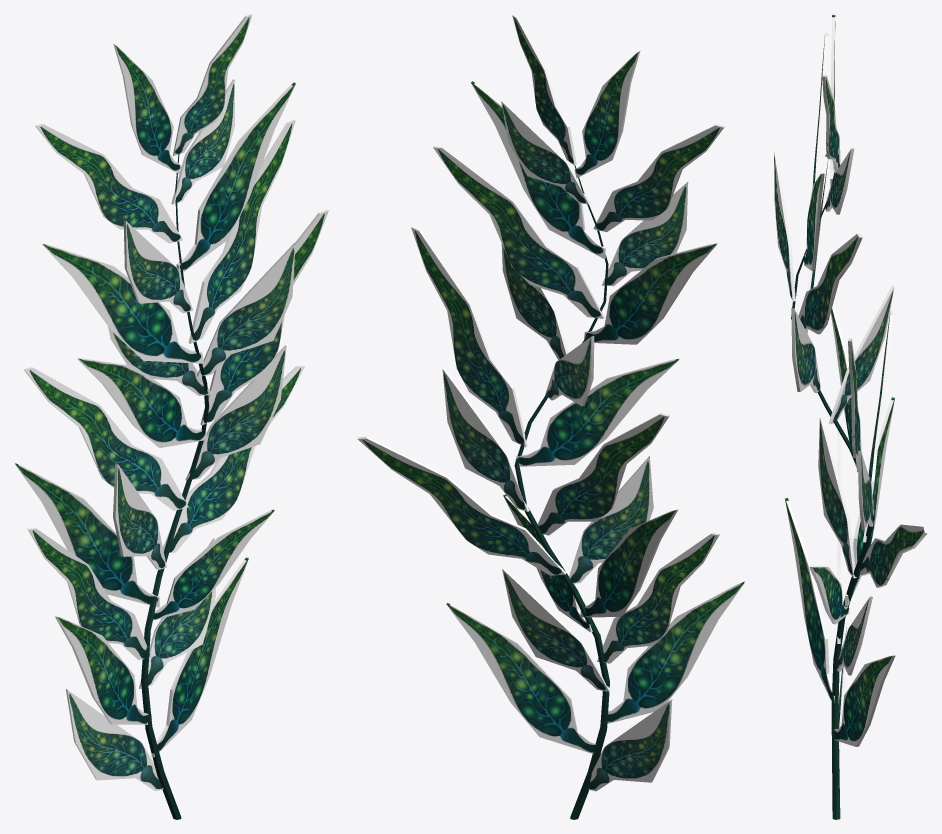
Rendered from seaweed1.obj.
3 renders of one model, left to right at view 1: azimuth 30°, elevation 25°; view 2: azimuth 150°, elevation 25°; view 3: azimuth 270°, elevation 25°, orthographic. The views are drawn at different scales.
Visible parts, largest first — view 1: seaweed1; view 2: seaweed1; view 3: seaweed1.
Boxes of the visible parts, x1,y1,x2,y2 form: seaweed1: [14, 14, 328, 819]; seaweed1: [357, 14, 745, 819]; seaweed1: [774, 14, 927, 819].
Size of the model in its own units: 3.44 by 8.11 by 1.46.
1 material, 1 textured.
